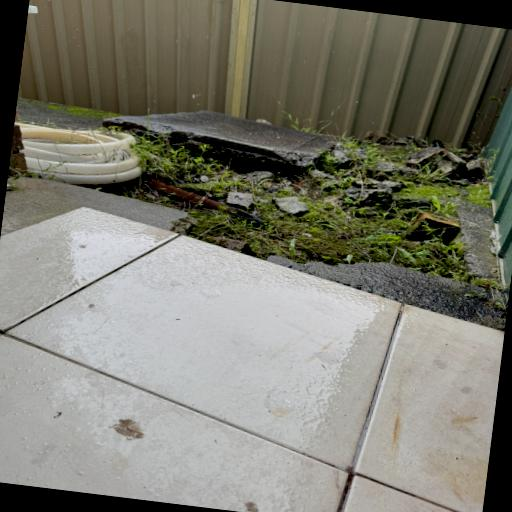gap: (43, 210, 494, 449)
